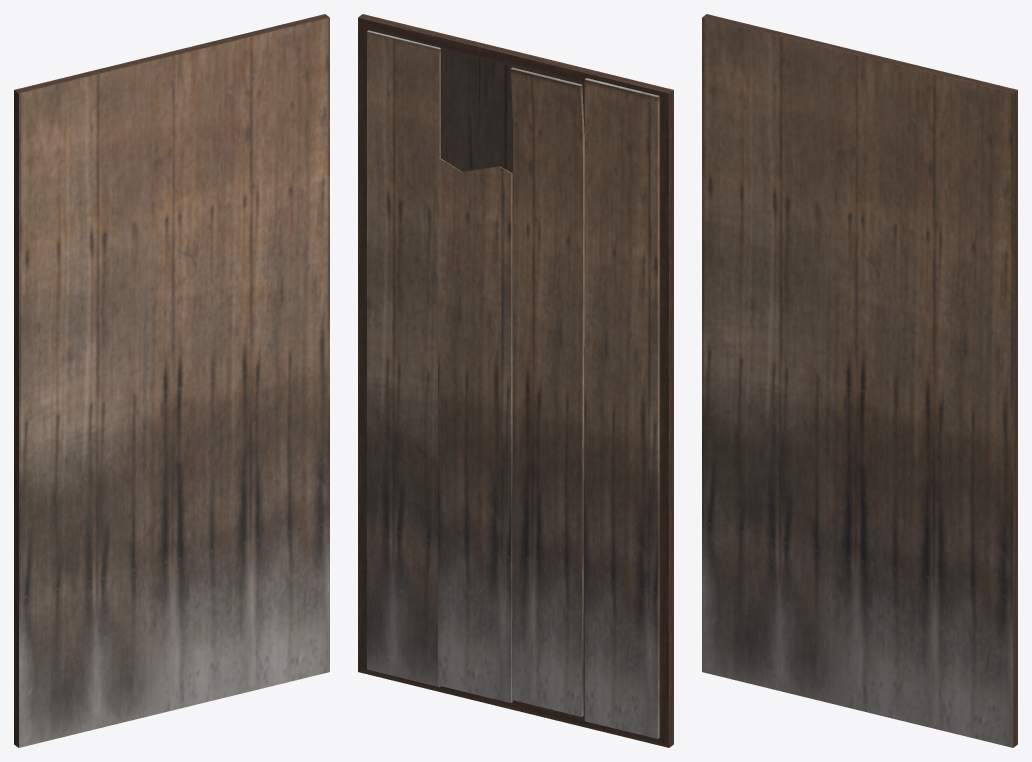
The model's file is amado_d2.fbx.
3 views of the same model, side by side, from view 1: azimuth 30°, elevation 25°; view 2: azimuth 150°, elevation 25°; view 3: azimuth 330°, elevation 25° (orthographic).
Parts seen in each view (by area): view 1: amado_d2; view 2: amado_d2; view 3: amado_d2.
Part boxes in pixels (x1,y1,x2,y2): amado_d2: (14, 14, 329, 747); amado_d2: (358, 14, 673, 747); amado_d2: (702, 14, 1017, 747).
Size of the model in its own units: 110 by 221 by 5.79.
